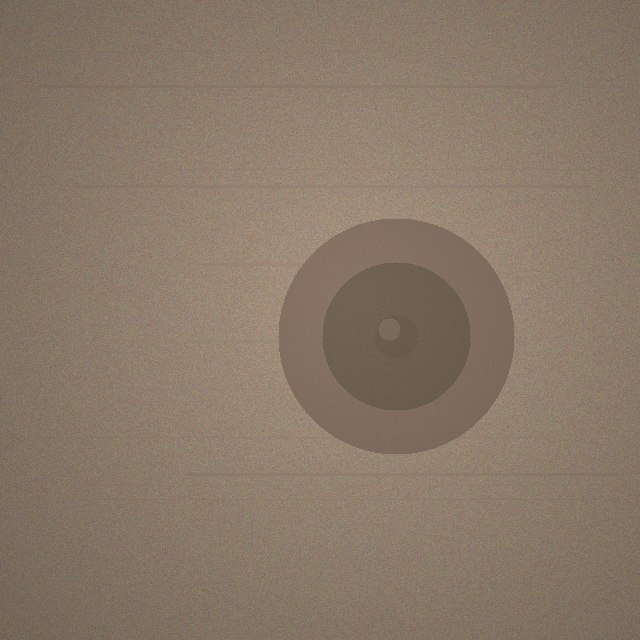good: (278, 218, 514, 454)
